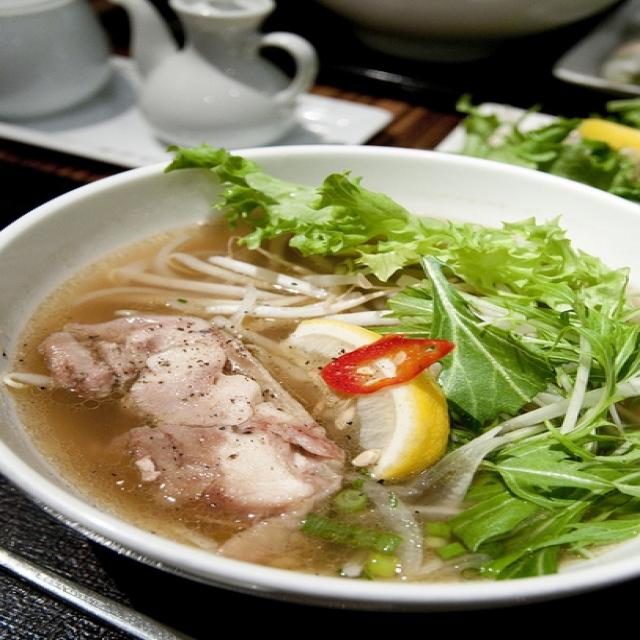面条主食: (19, 171, 634, 578)
